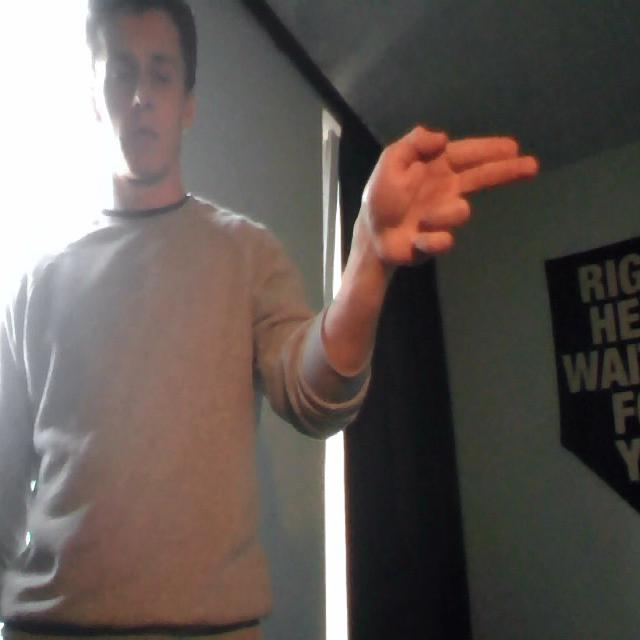right: (344, 117, 543, 272)
